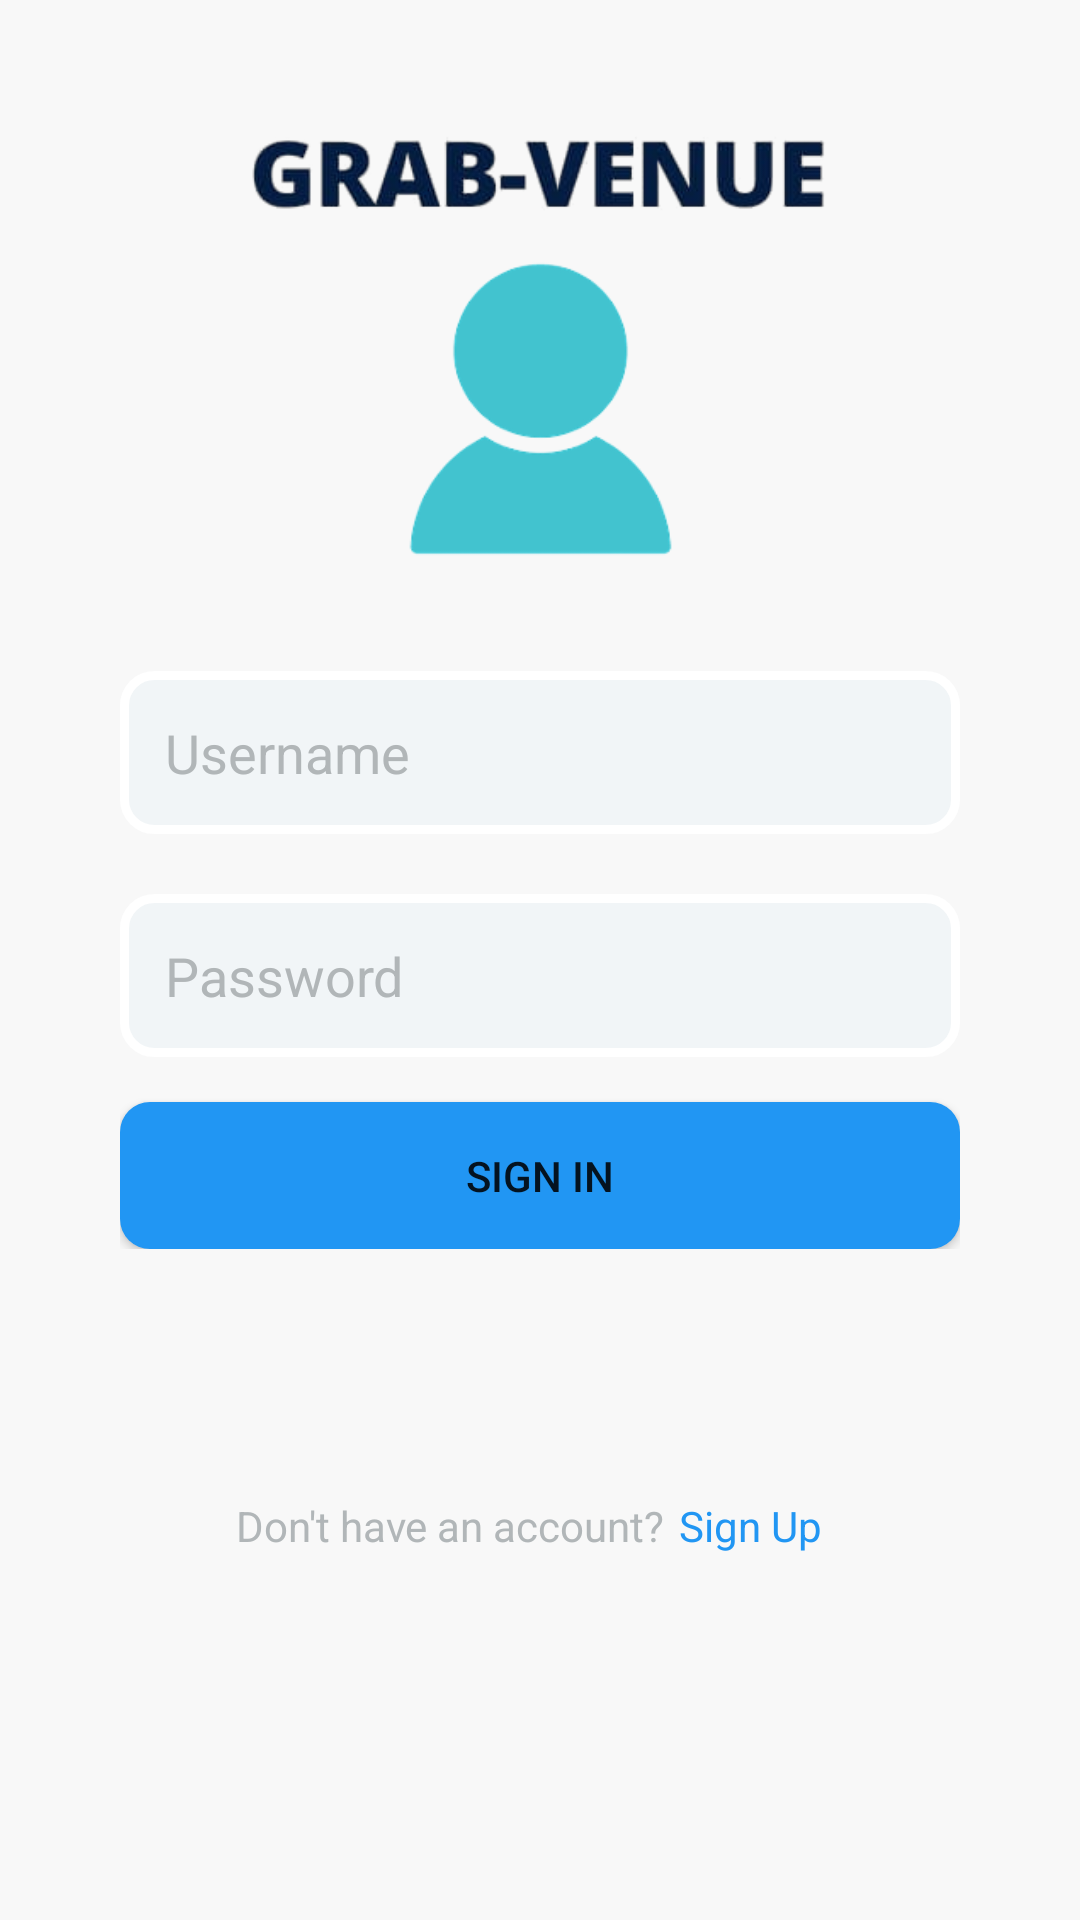

Icon bounding boxes for this 1080px×1920px phone screenshot, format bbox=(x1, y1, x2, y2):
userr: bbox=(410, 264, 672, 554)
